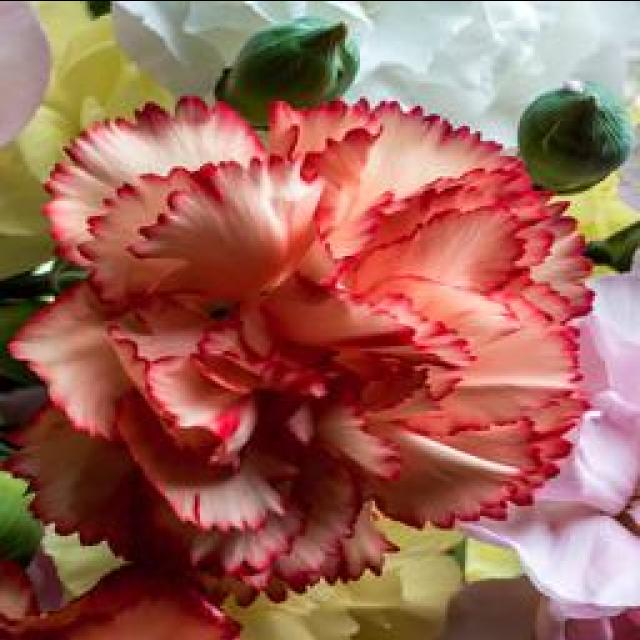carnation: (0, 94, 596, 588)
